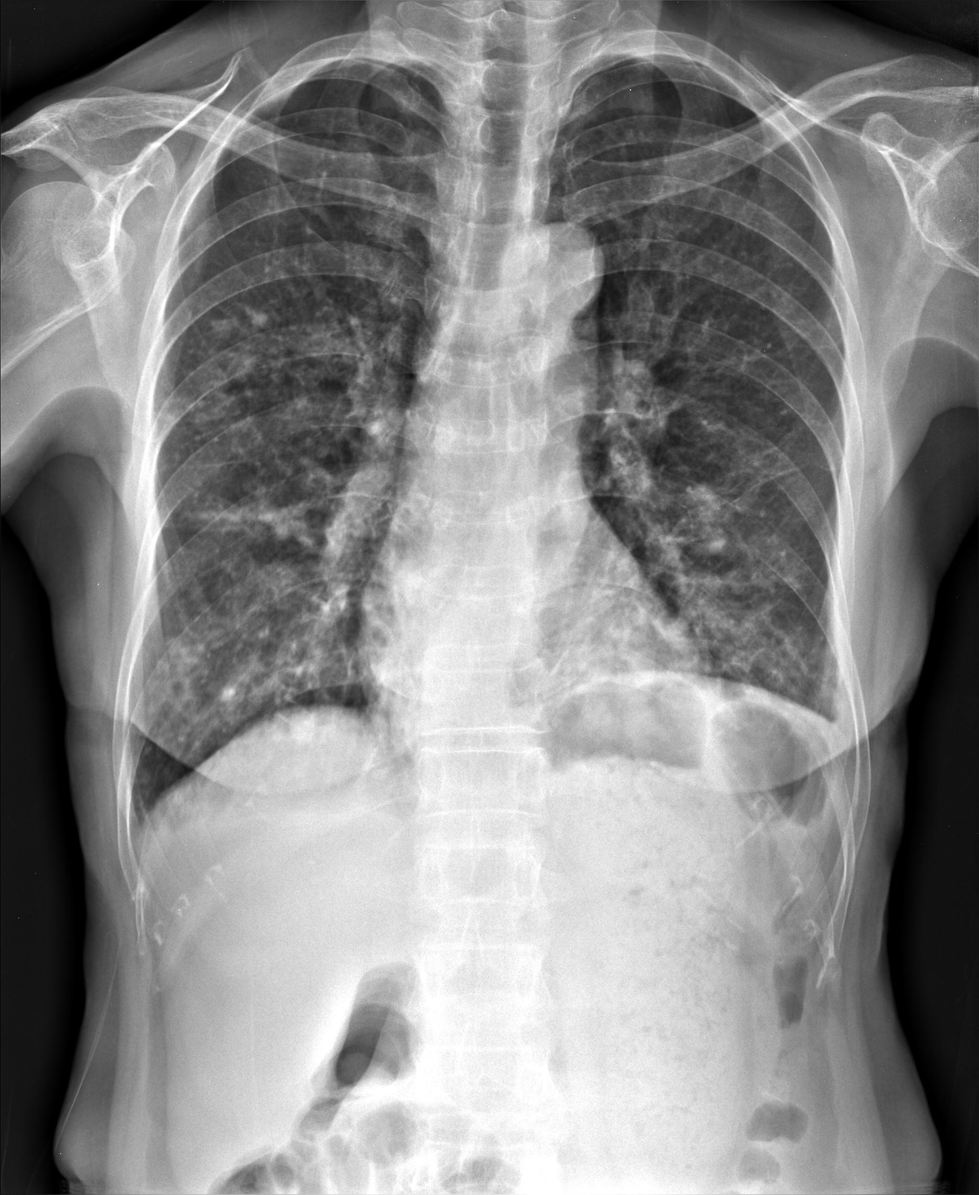Aortic enlargement: (504, 222, 605, 325)
Pleural thickening: (827, 647, 853, 761), (307, 55, 373, 78)
Pulmonary fibrosis: (718, 426, 808, 508), (662, 531, 771, 589), (190, 498, 312, 541), (587, 234, 598, 300)
